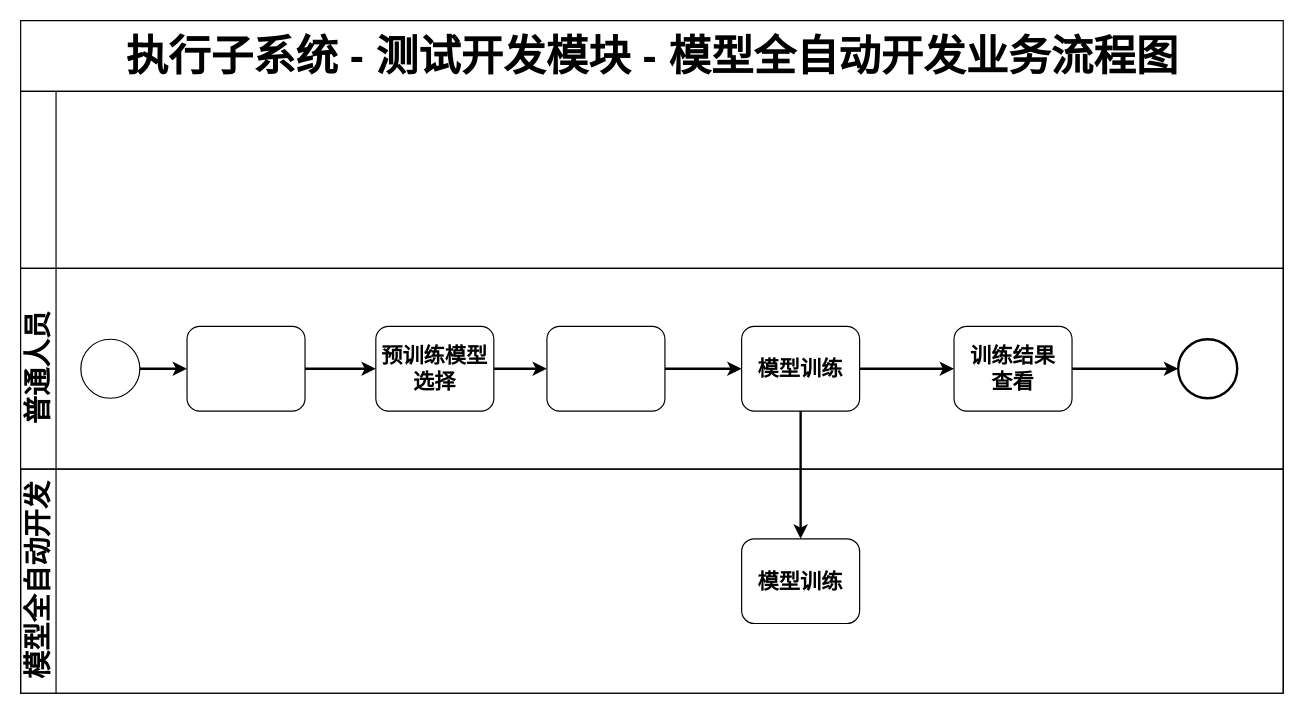
Some shapes in this 1304 by 714 pixel diagram are drawn without their labels. Each missing label, with the box of its shape:
用户登录: (186, 325, 305, 411)
系统管理员: (19, 90, 1283, 268)
训练数据 选择: (546, 325, 665, 411)
